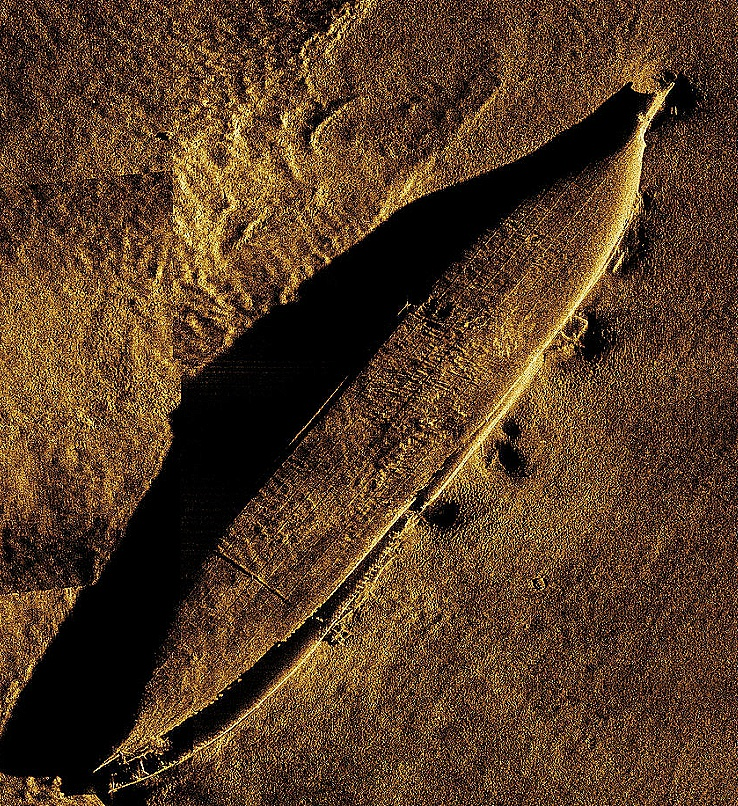ship: (93, 77, 679, 797)
